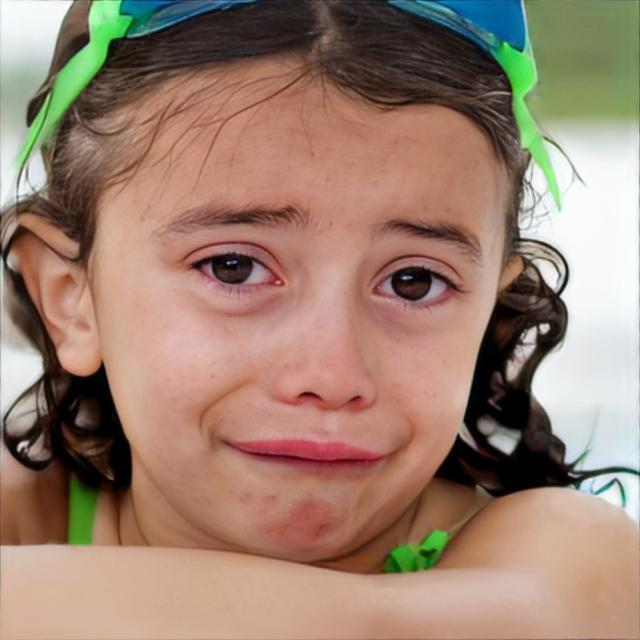sad: (94, 64, 502, 559)
